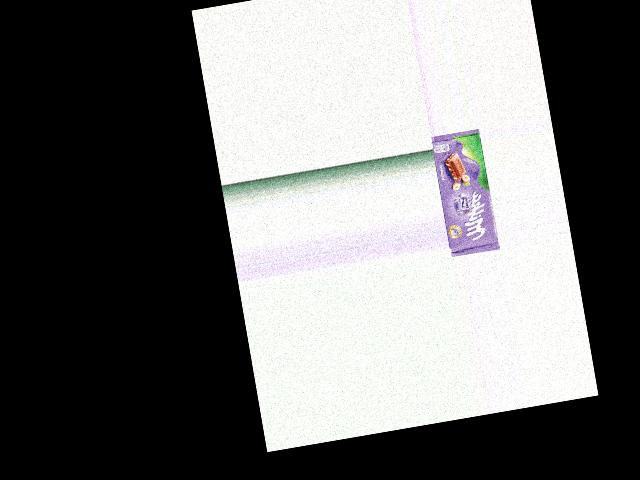chocolate: (429, 128, 499, 257)
